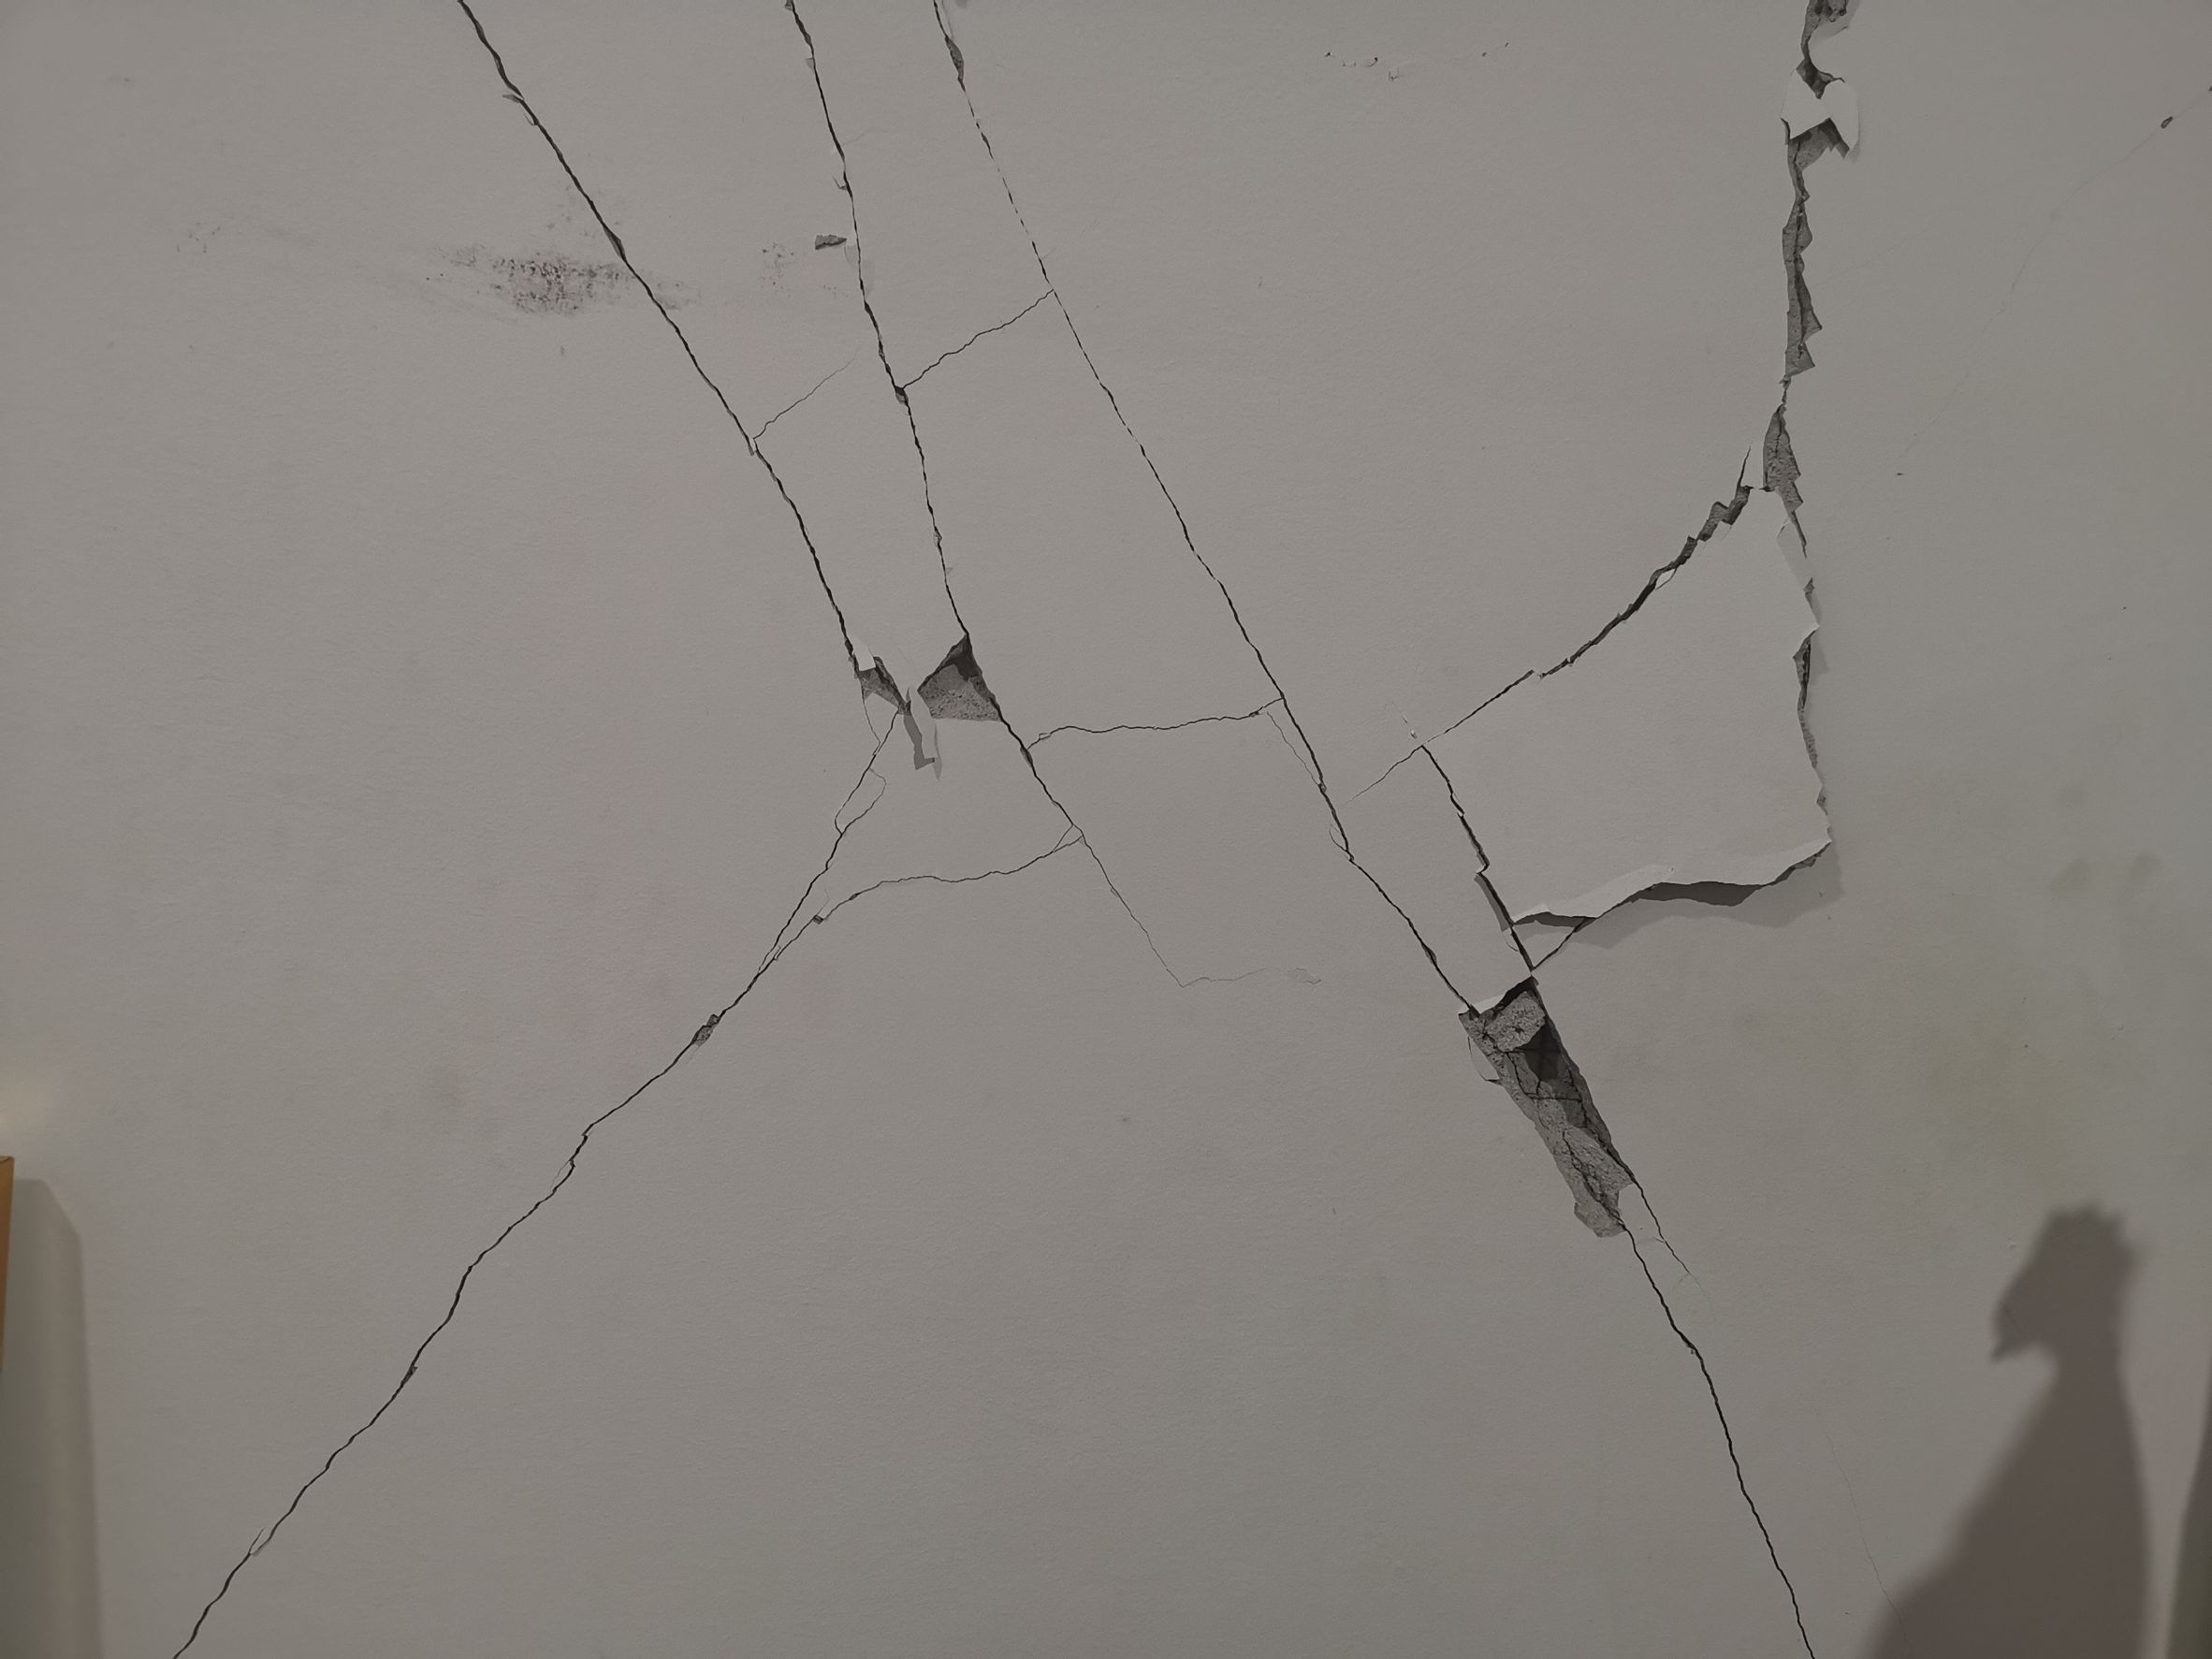Medium: (1334, 946, 1928, 1588)
